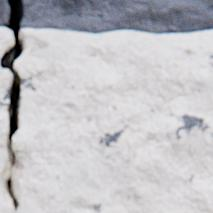broken_brick: (12, 30, 212, 212), (0, 69, 13, 212), (0, 29, 13, 58)
crack: (0, 0, 25, 212)
